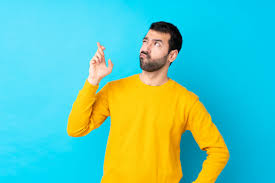white_male: (134, 21, 174, 72)
